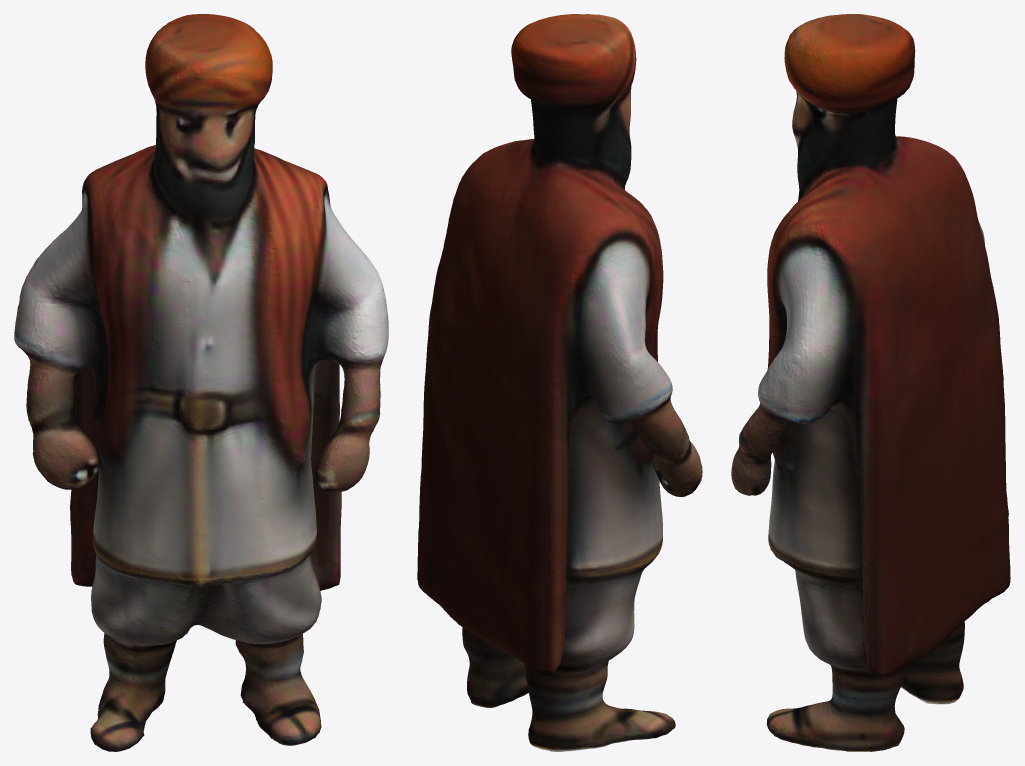
File: Alibaba.obj
The picture shows the model from 3 angles, left to right: view 1: azimuth 30°, elevation 25°; view 2: azimuth 150°, elevation 25°; view 3: azimuth 270°, elevation 25°; orthographic projection. The views are drawn at different scales.
Size of the model in its own units: 0.478 by 1.05 by 0.3917.
1 material, 1 textured.
